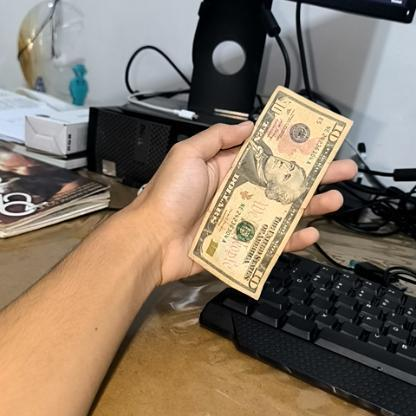ten-front: (184, 83, 354, 301)
